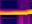Hotspot: (0, 9, 31, 16)
